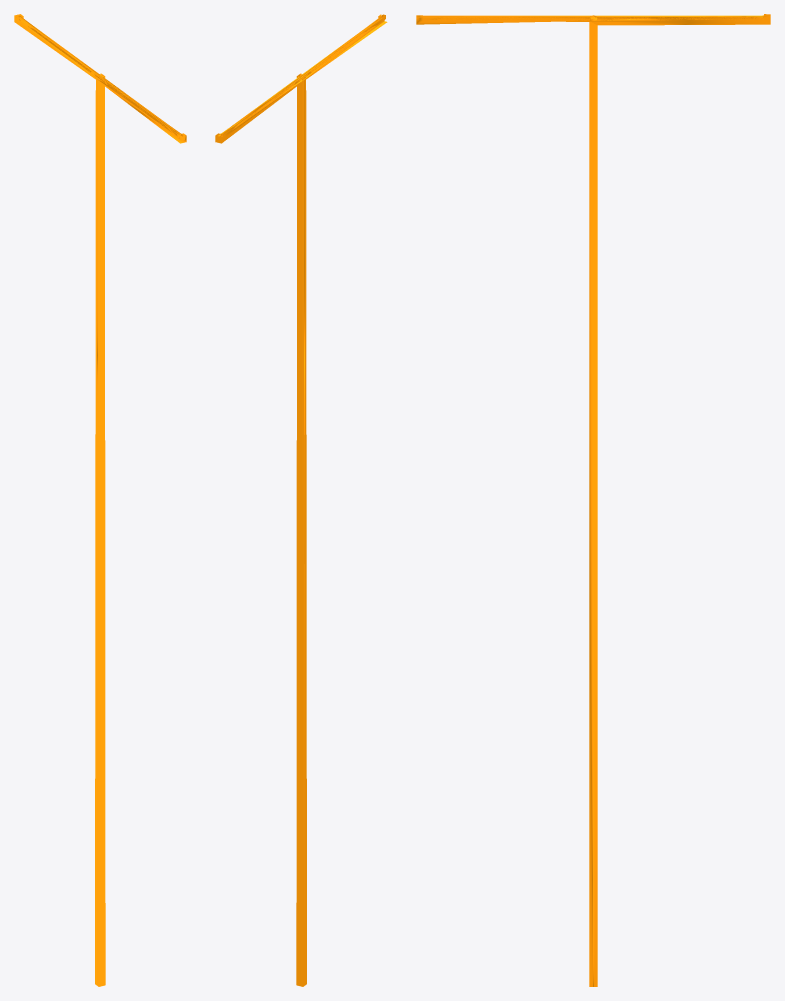
Rendered from stand_gate.dae.
3 renders of one model, left to right at view 1: azimuth 30°, elevation 25°; view 2: azimuth 150°, elevation 25°; view 3: azimuth 270°, elevation 25°, orthographic. The views are drawn at different scales.
Parts seen in each view (by area): view 1: Plane.001; view 2: Plane.001; view 3: Plane.001.
Part boxes in pixels (box(x1,y1,x2,y2)): Plane.001: box(14, 14, 186, 986); Plane.001: box(215, 14, 387, 986); Plane.001: box(416, 14, 770, 986).
Bounding box in the file's own units: 0.0263 × 1 × 3.02.
